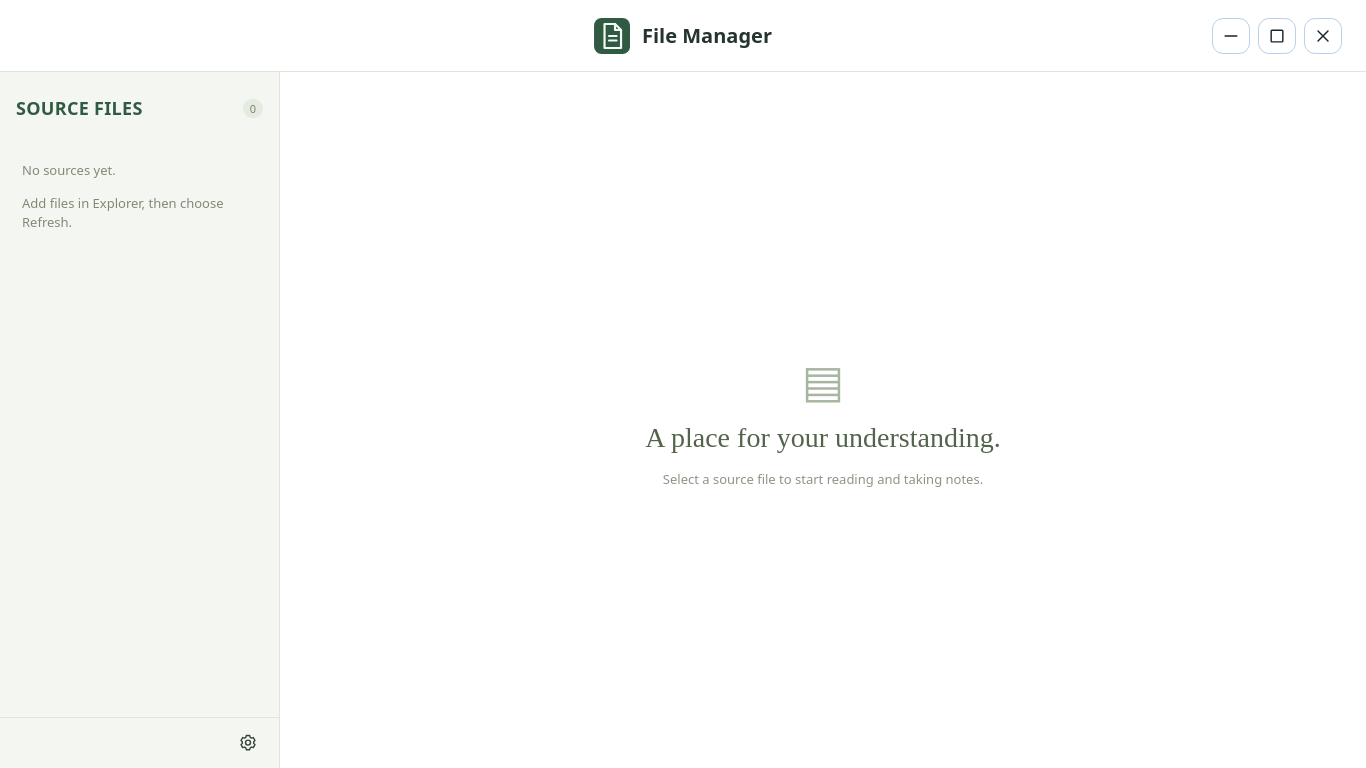
Scenario: opens tag management from vault operations without a selected source
The width and height of the screenshot is (1366, 768).
Click the button named "Settings" at (248, 743), box left=231, top=726, right=265, bottom=760
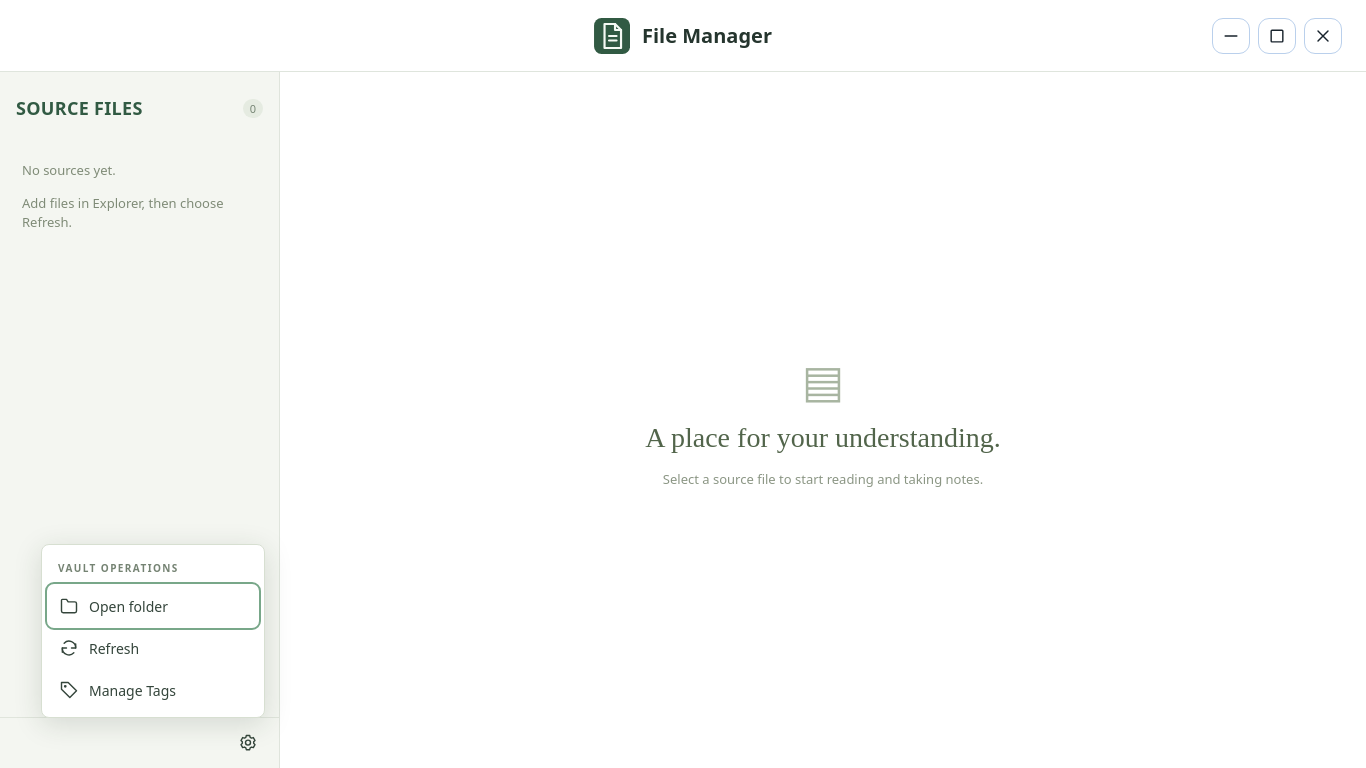
Click the menu item "Manage Tags" at (153, 690), box left=48, top=669, right=258, bottom=711
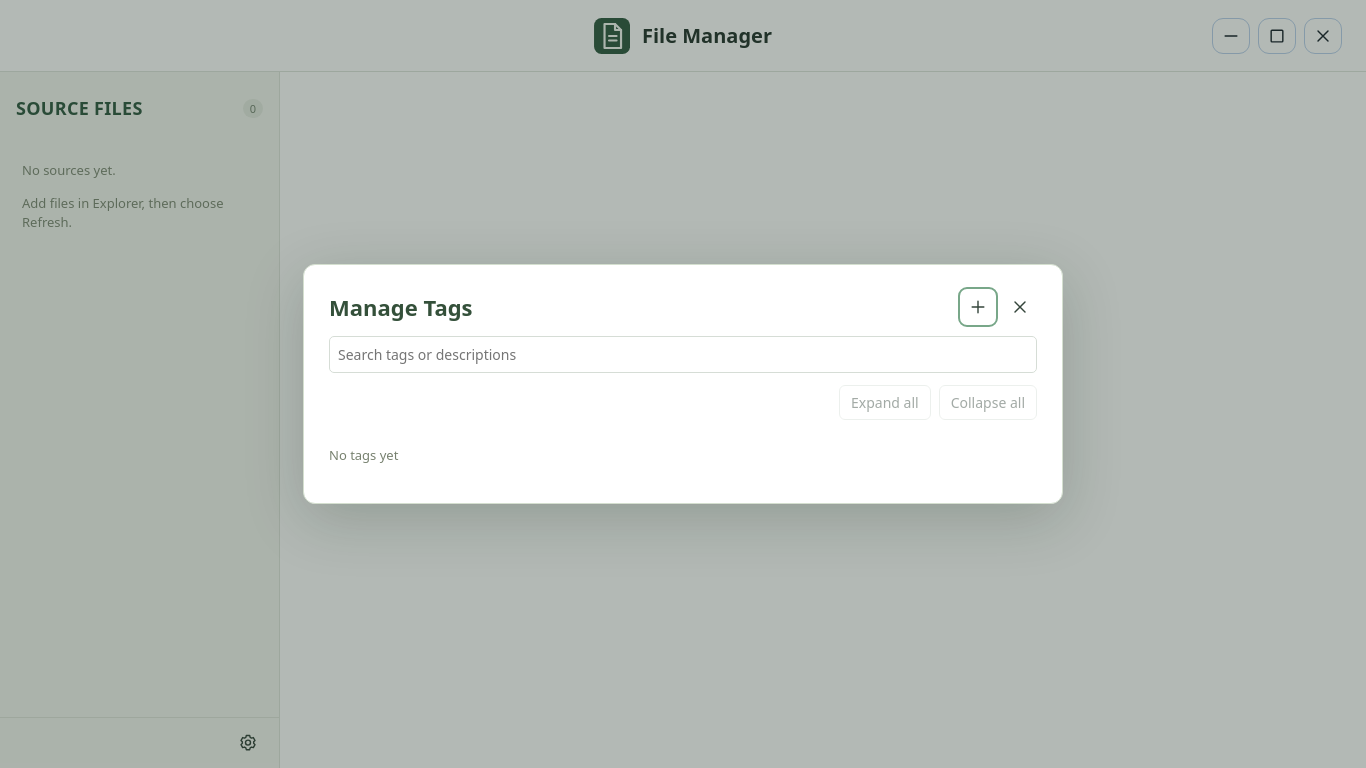
Now the text "No tags yet" is shown, box left=329, top=446, right=398, bottom=464
Type "New" into the field at (683, 354), box left=329, top=336, right=1037, bottom=373
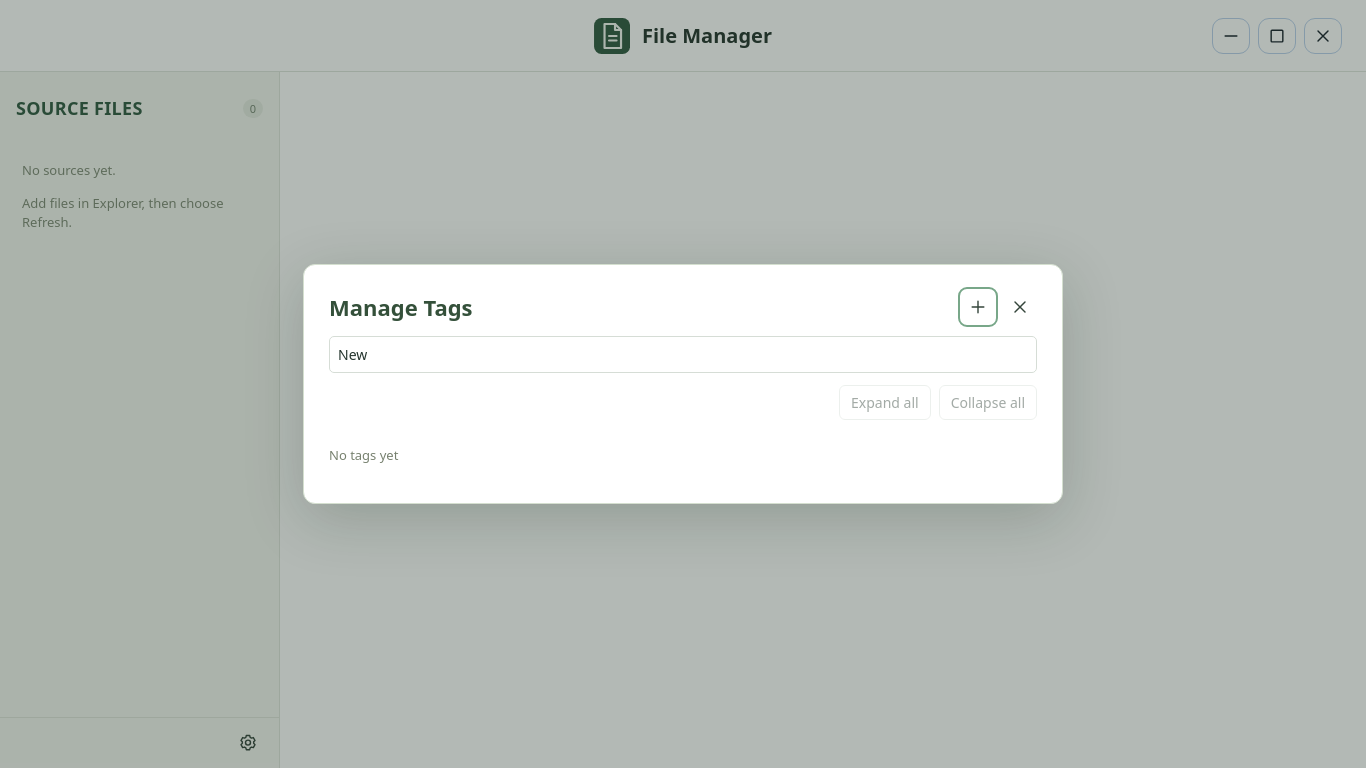
Click the button named "Create tag" at (978, 307), box left=961, top=290, right=995, bottom=324
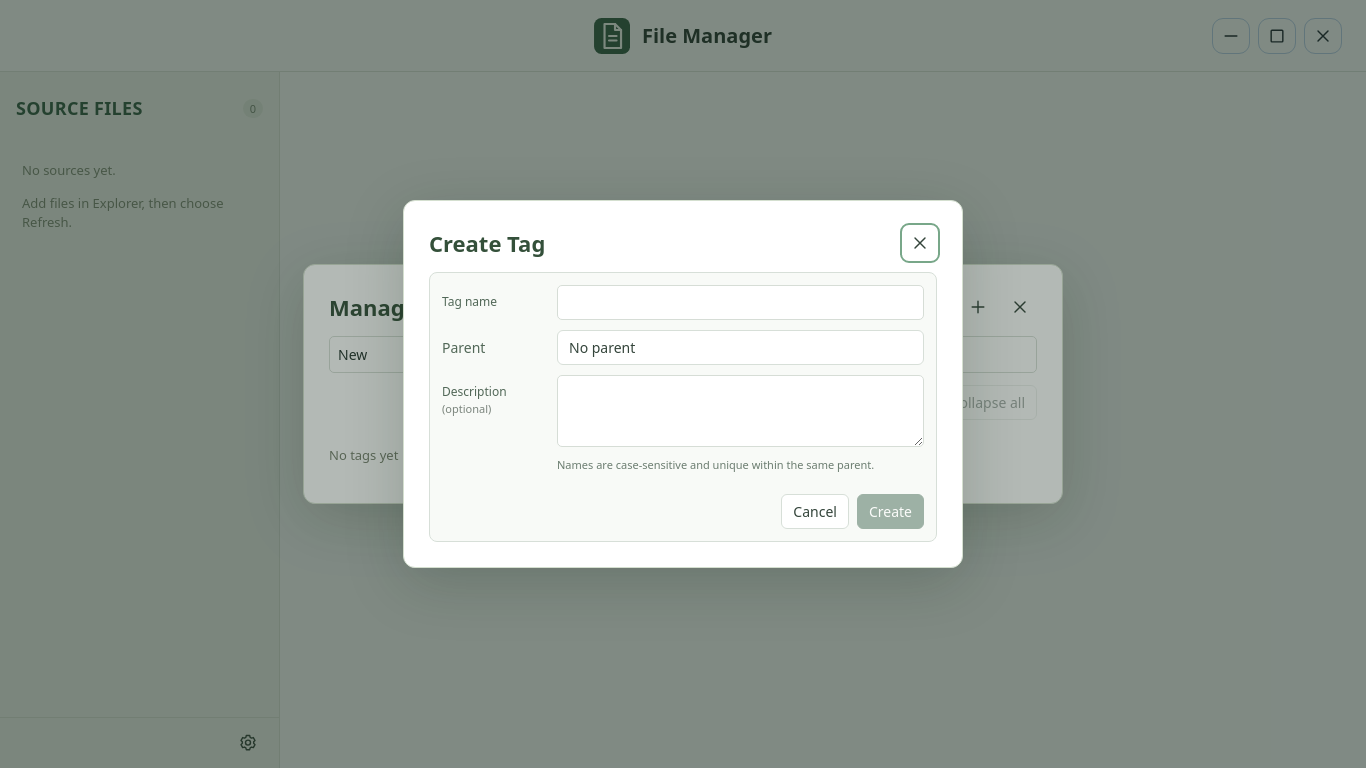
Type "New tag" into the field labelled "Tag name" at (740, 302), box left=557, top=285, right=924, bottom=320
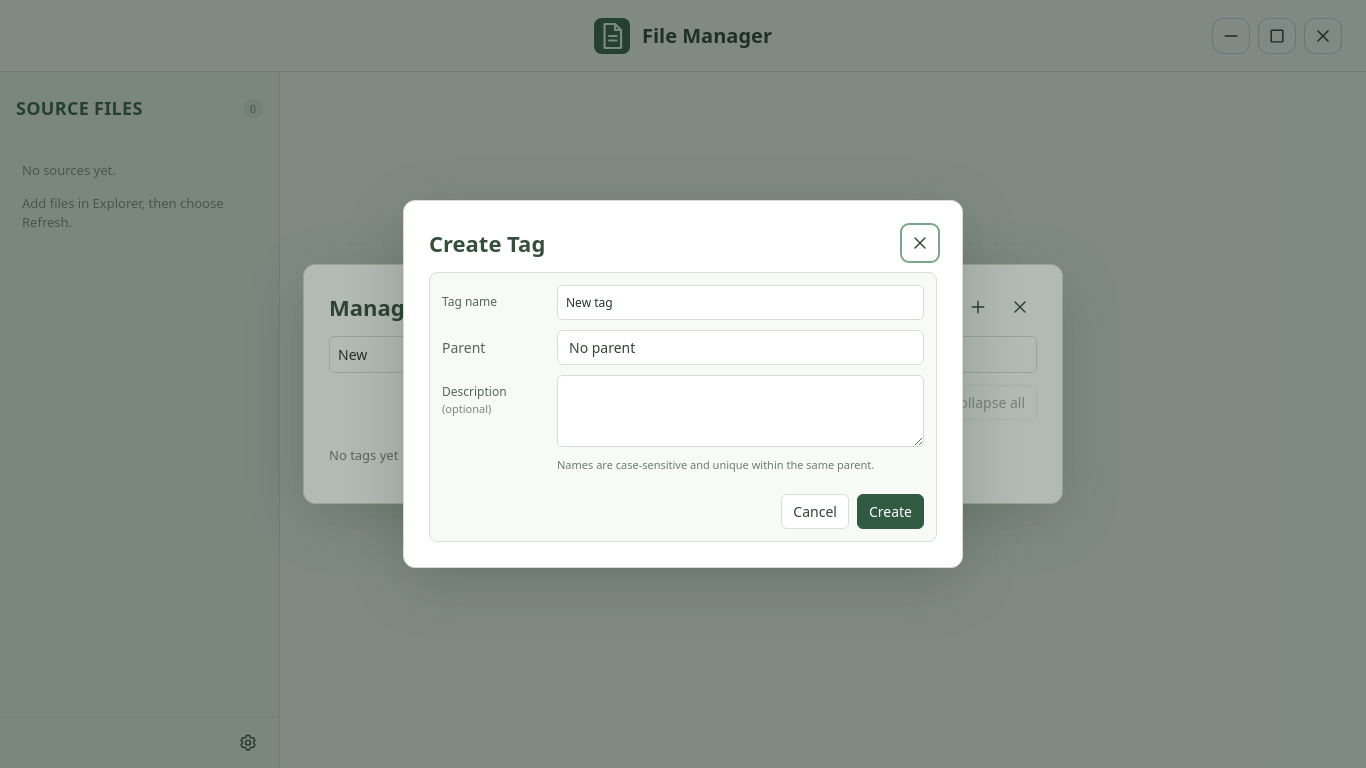
Click the button "Create" at (890, 512), box left=857, top=494, right=924, bottom=529
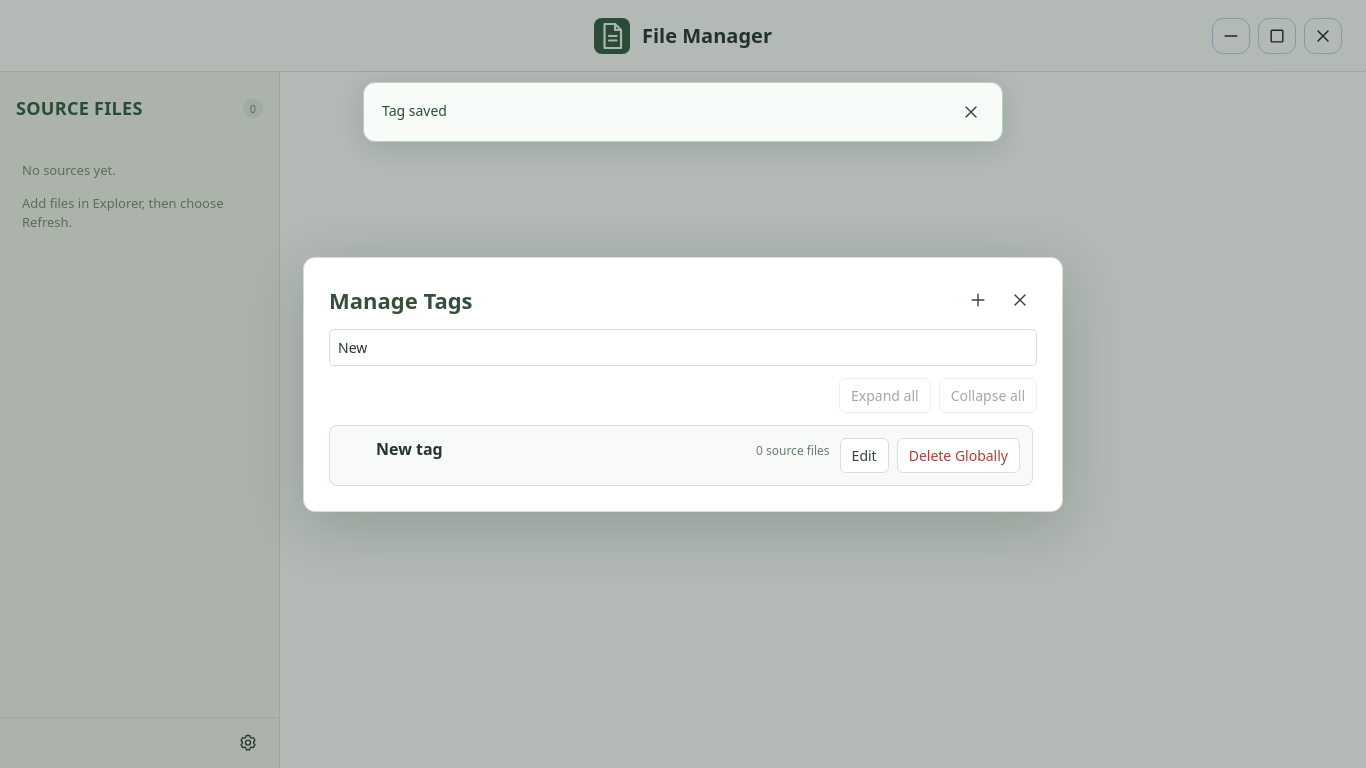
Now the heading "Create Tag" is gone
Now the text "New tag" is shown, box left=376, top=438, right=443, bottom=460
Now the text "0 source files" is shown, box left=756, top=442, right=830, bottom=458
